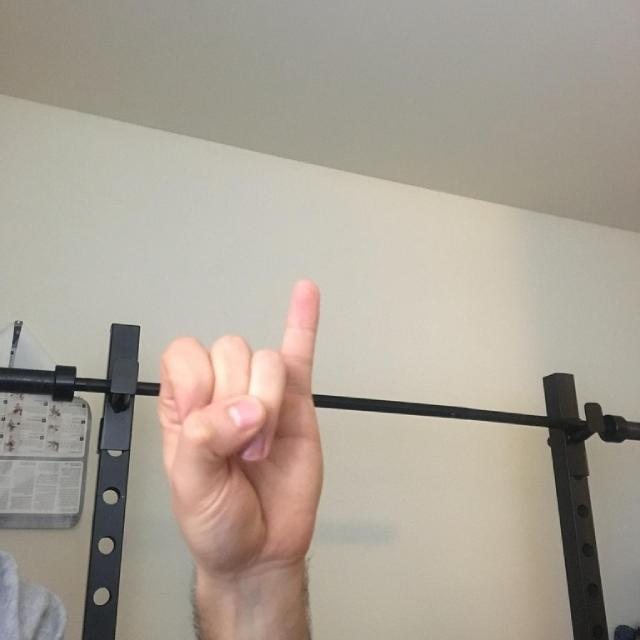I: (124, 229, 448, 536)
